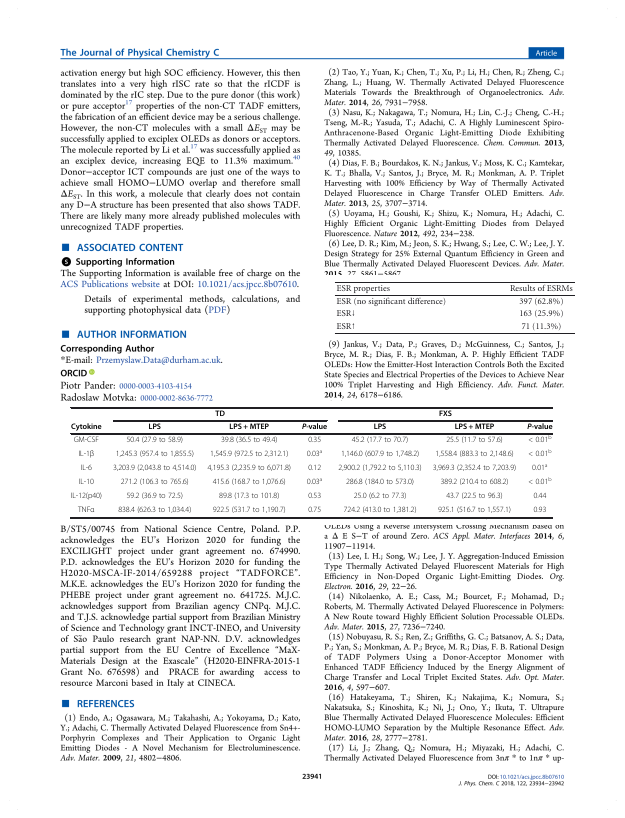borderless: (69, 406, 552, 517), (333, 280, 575, 333)
cell: (335, 297, 447, 307), (206, 464, 292, 474), (337, 464, 423, 474), (112, 464, 197, 474), (432, 464, 517, 474), (115, 450, 195, 460), (209, 450, 289, 460), (340, 450, 420, 460), (434, 450, 514, 460), (212, 478, 287, 488), (117, 506, 192, 516), (212, 506, 287, 516), (342, 506, 417, 516), (437, 506, 512, 516), (120, 478, 190, 488), (345, 478, 415, 488), (439, 478, 509, 488), (509, 284, 574, 294), (218, 492, 280, 502), (125, 436, 184, 446), (445, 436, 504, 446), (125, 492, 184, 502), (445, 492, 504, 502), (220, 436, 278, 446), (351, 436, 409, 446), (335, 284, 391, 294), (353, 492, 407, 502), (520, 321, 562, 332), (518, 297, 564, 307), (518, 309, 564, 319), (228, 423, 270, 433), (454, 423, 495, 433), (70, 492, 103, 502), (70, 423, 102, 433), (527, 435, 552, 446), (527, 449, 552, 460), (527, 477, 552, 488), (301, 423, 328, 433), (526, 423, 553, 433), (73, 436, 100, 446), (335, 321, 357, 332), (335, 309, 357, 319), (306, 449, 323, 460), (531, 463, 548, 474), (306, 477, 323, 488), (77, 450, 95, 460), (77, 506, 95, 516), (78, 478, 95, 488), (147, 423, 162, 433), (307, 436, 322, 446), (307, 464, 322, 474), (307, 492, 322, 502), (532, 492, 547, 502), (307, 506, 322, 516), (532, 506, 547, 516), (373, 423, 387, 433), (79, 464, 93, 474), (438, 410, 453, 419), (214, 410, 226, 419)
